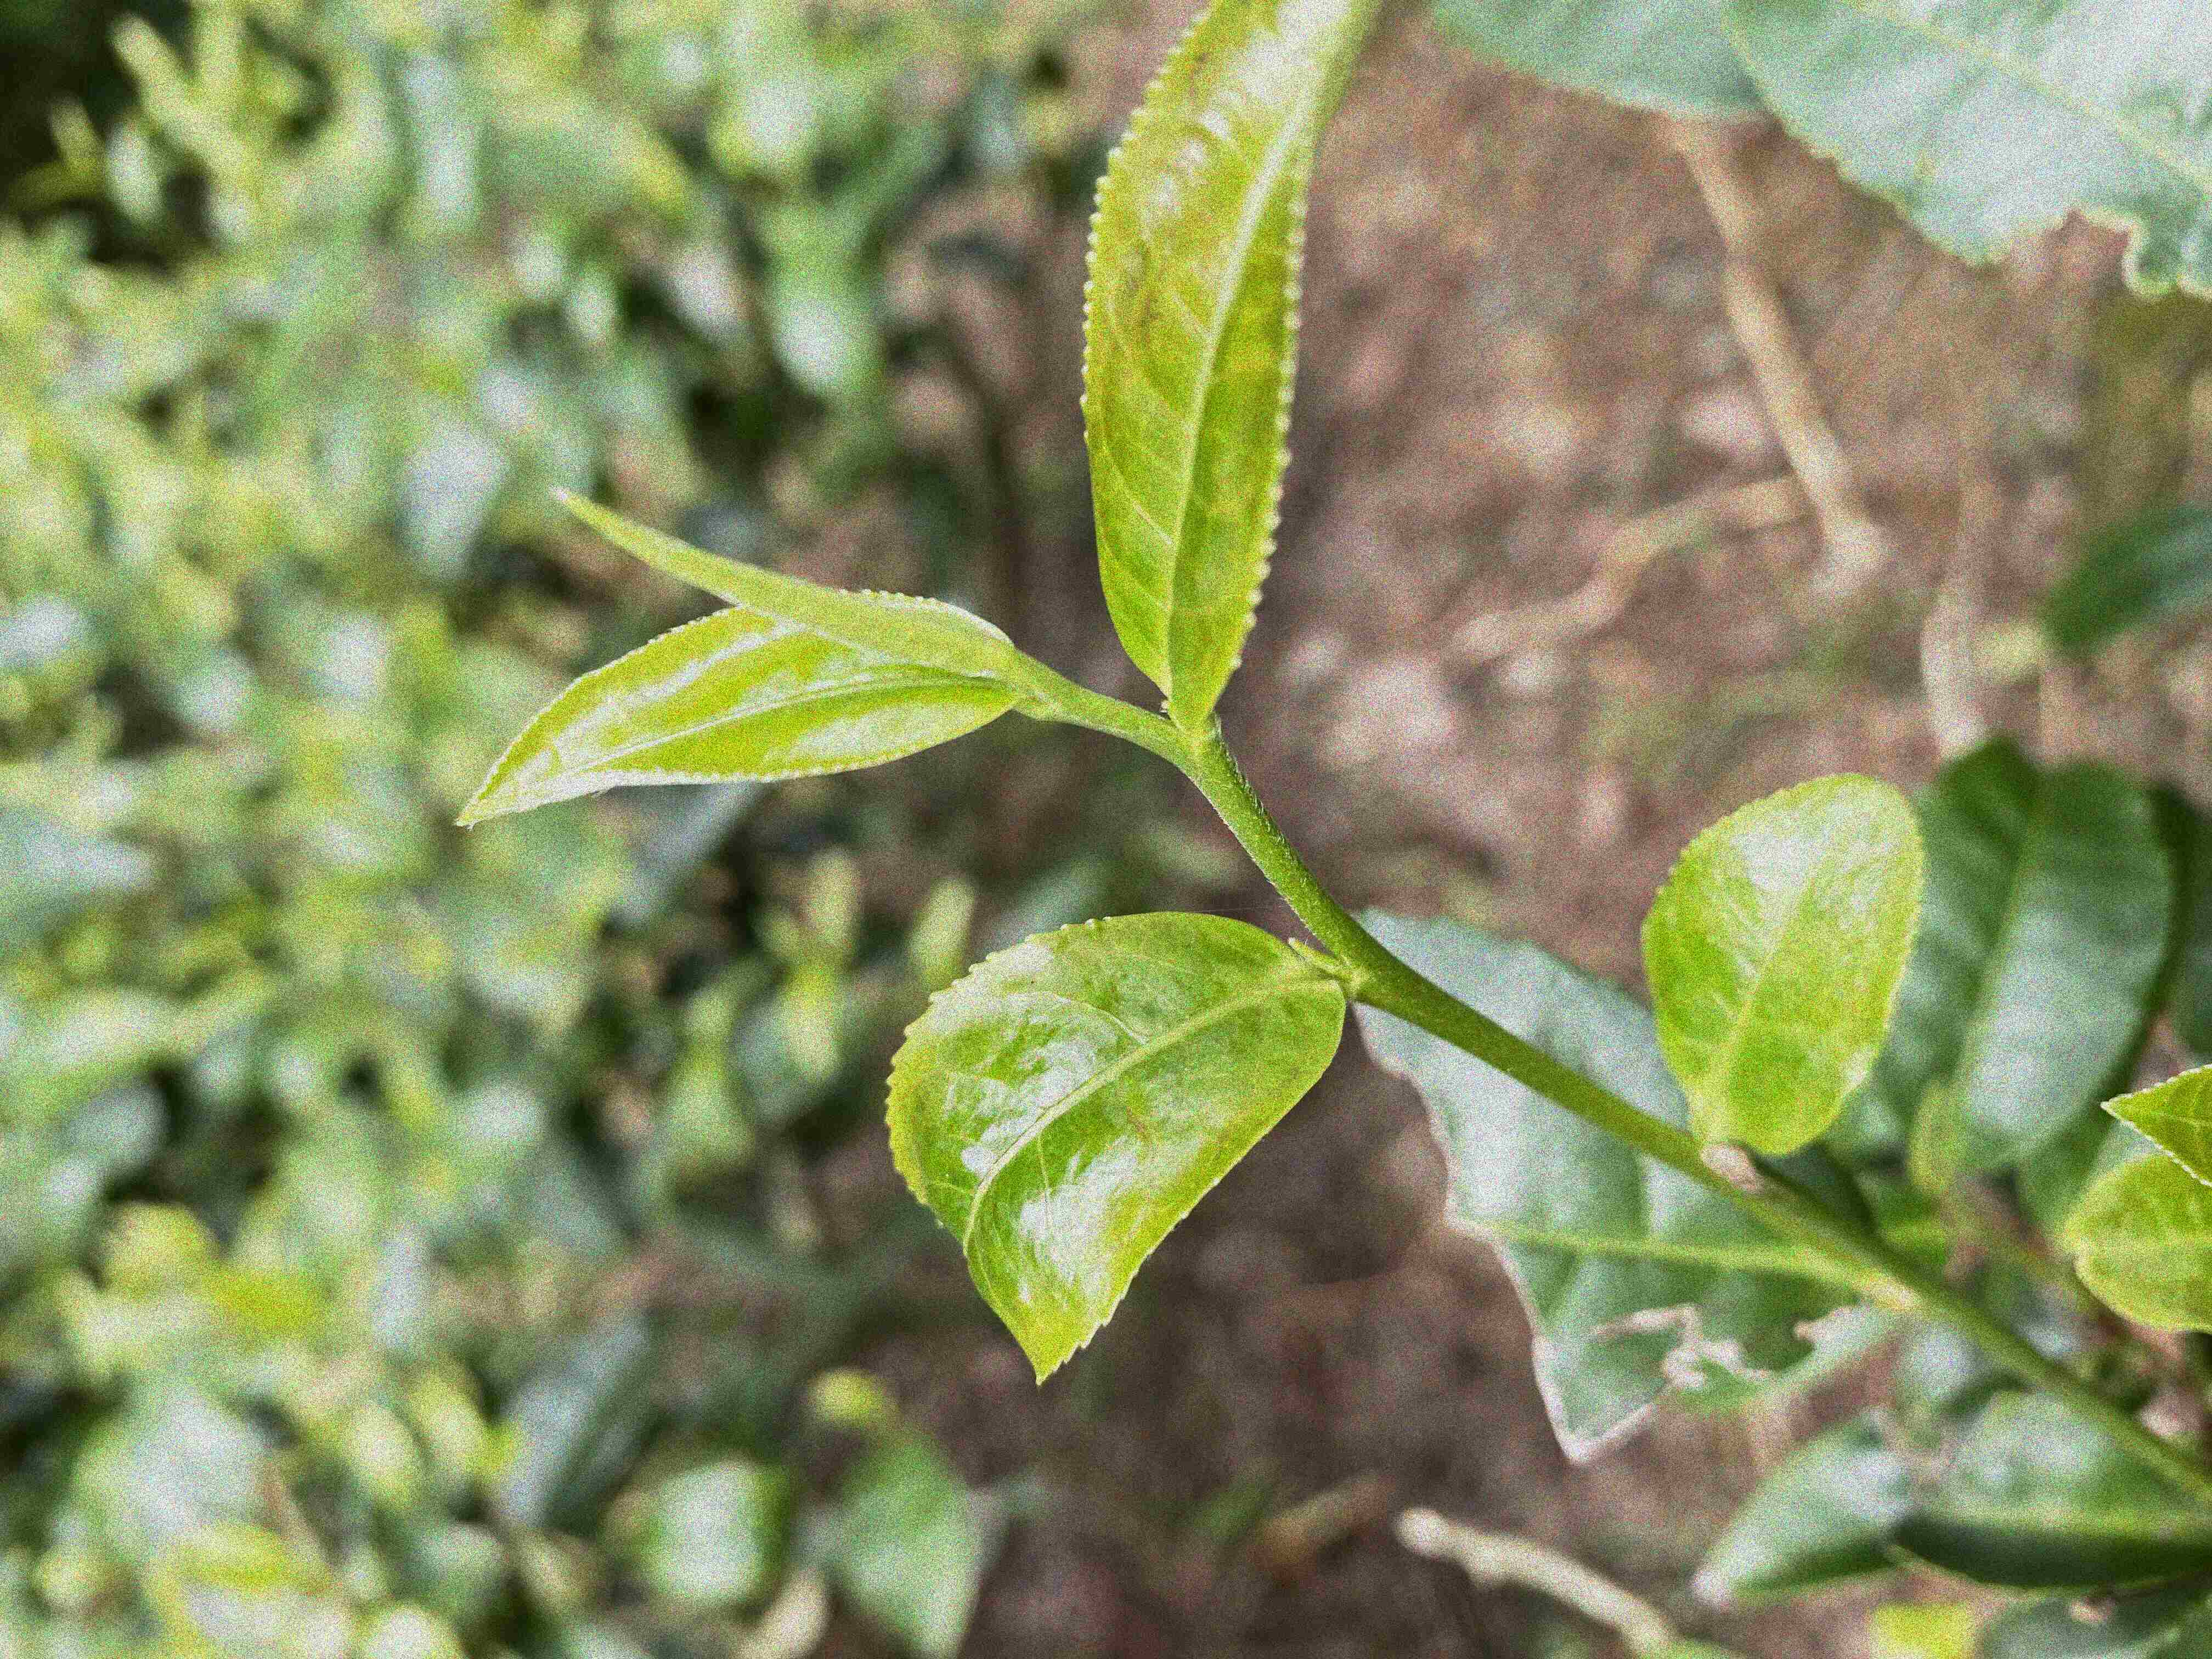chihuo_high: (1343, 908, 1879, 1467)
healthy: (881, 906, 1343, 1387), (451, 587, 1029, 830), (1639, 774, 1925, 1157)
tanju_low: (1076, 0, 1381, 723)
